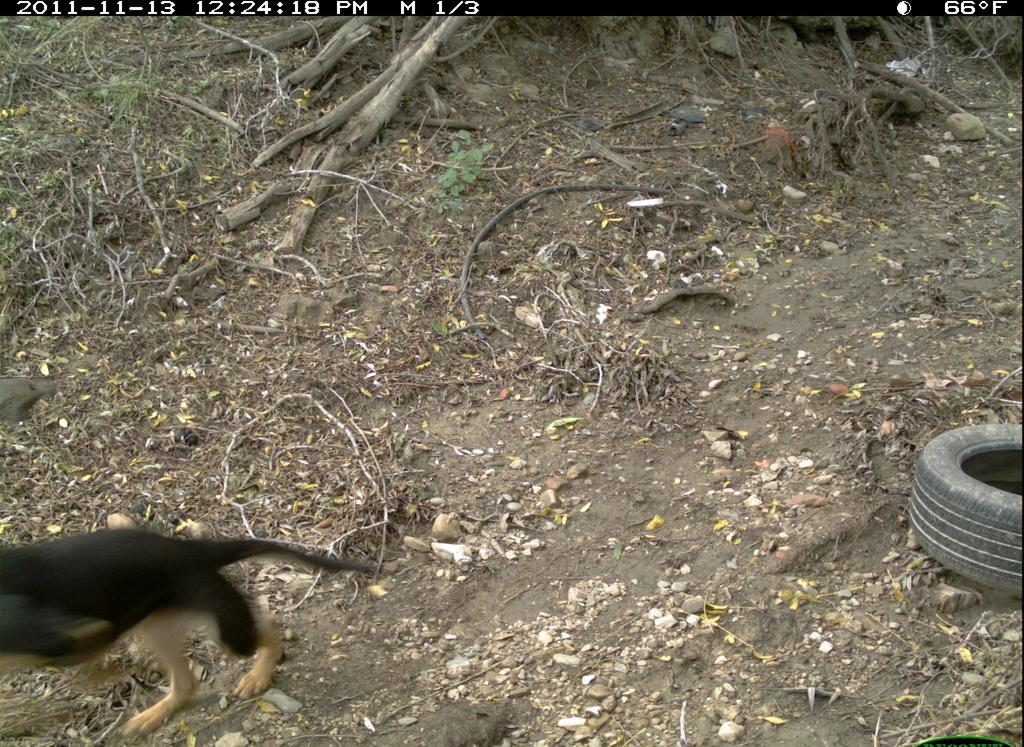cat: (1, 519, 385, 742)
